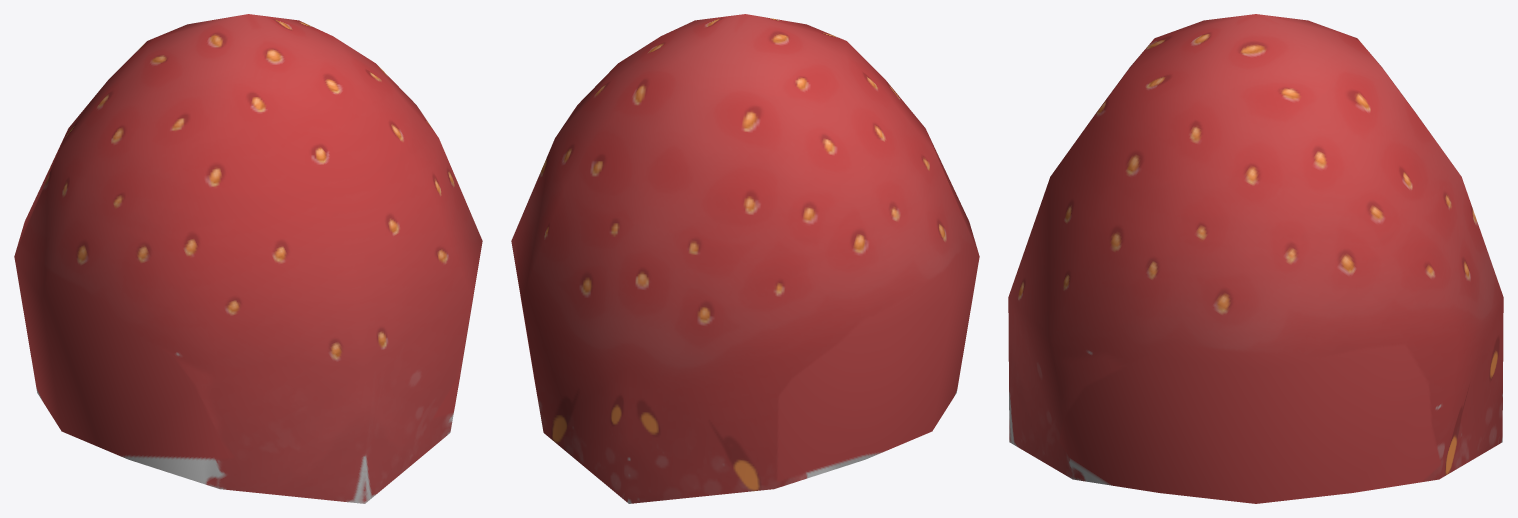
Rendered from Model_IchigoDaihuku_01.fbx.
3 views of the same model, side by side, from view 1: azimuth 30°, elevation 25°; view 2: azimuth 150°, elevation 25°; view 3: azimuth 270°, elevation 25° (orthographic). The views are drawn at different scales.
Parts seen in each view (by area): view 1: polySurface2; view 2: polySurface2; view 3: polySurface2.
Part boxes in pixels (<box>): polySurface2: <box>14,14,482,503</box>; polySurface2: <box>511,14,979,503</box>; polySurface2: <box>1008,14,1503,503</box>.
Size of the model in its own units: 120 by 112 by 117.
